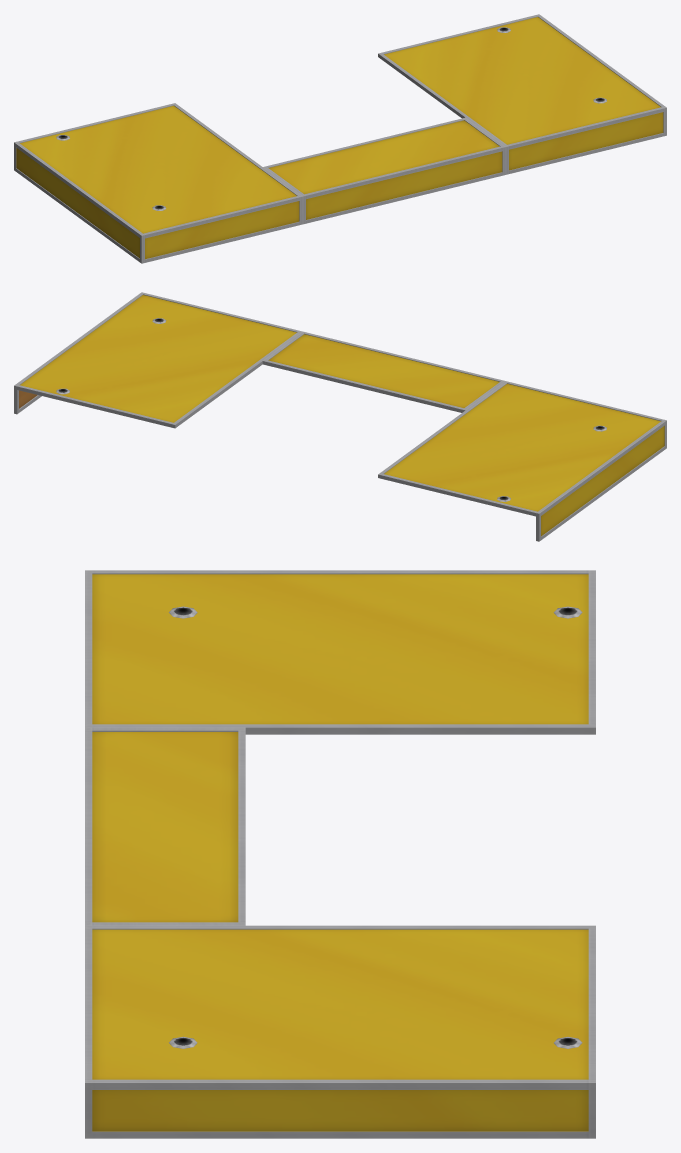
Rendered from jsf_4P_s02_c03_t02_DX.fbx.
3 views of the same model, one above another, from view 1: azimuth 30°, elevation 25°; view 2: azimuth 150°, elevation 25°; view 3: azimuth 270°, elevation 25° (orthographic). The views are drawn at different scales.
Parts seen in each view (by area): view 1: jsf_4P_s02_c03_t02_DX; view 2: jsf_4P_s02_c03_t02_DX; view 3: jsf_4P_s02_c03_t02_DX.
Boxes of the visible parts, x1=… form: jsf_4P_s02_c03_t02_DX: x1=14, y1=14, x2=666, y2=263; jsf_4P_s02_c03_t02_DX: x1=14, y1=292, x2=666, y2=541; jsf_4P_s02_c03_t02_DX: x1=85, y1=570, x2=595, y2=1138.
Bounding box in the file's own units: 246 × 12.99 × 104.
